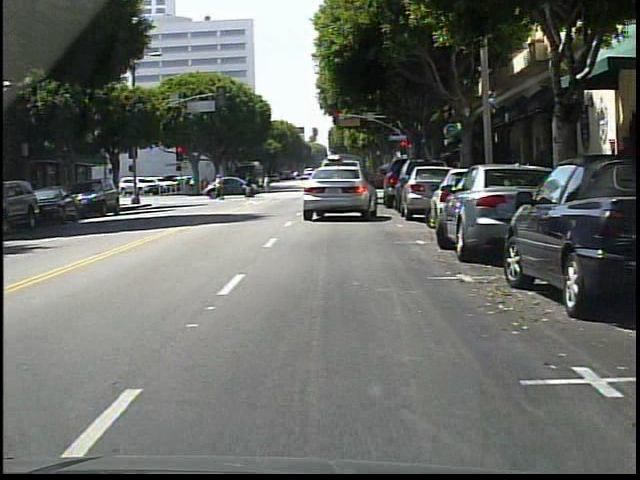person: (243, 172, 256, 200), (214, 174, 227, 199), (268, 174, 269, 192)
